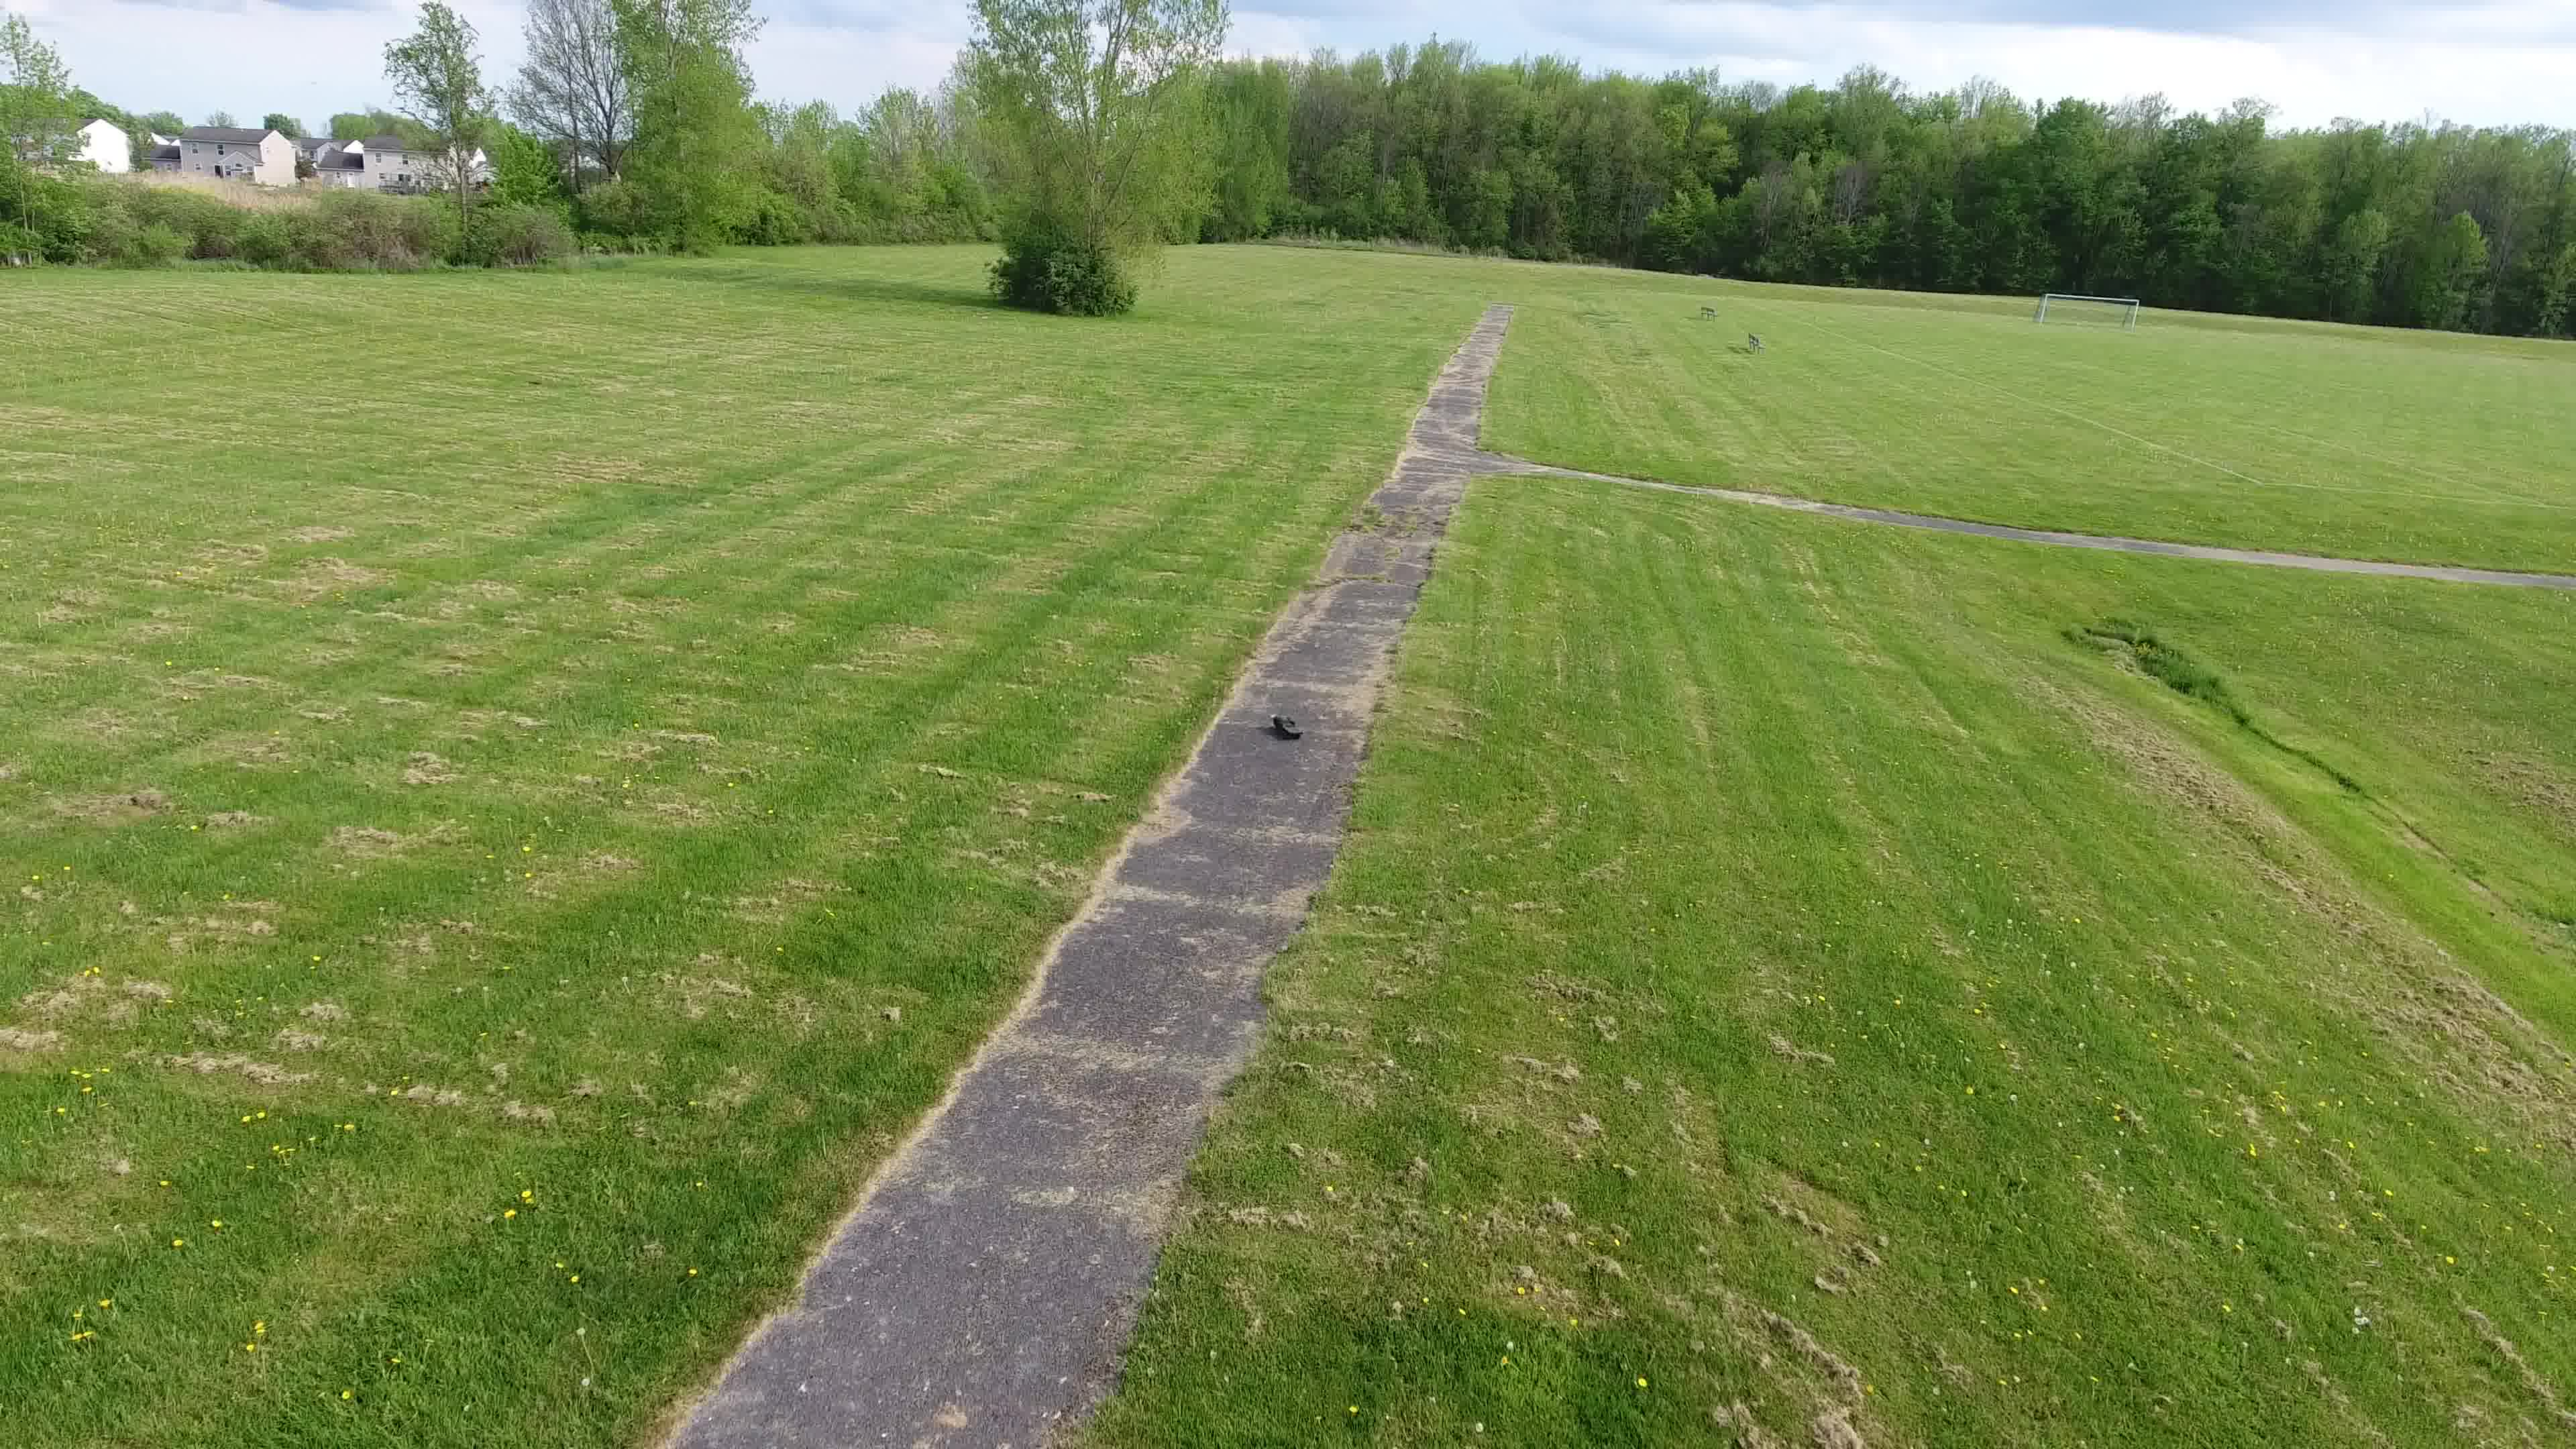transporter9_camo: (1272, 715, 1304, 743)
